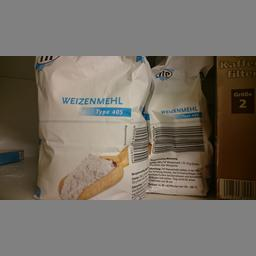flour: (33, 55, 146, 200), (146, 56, 212, 195)
